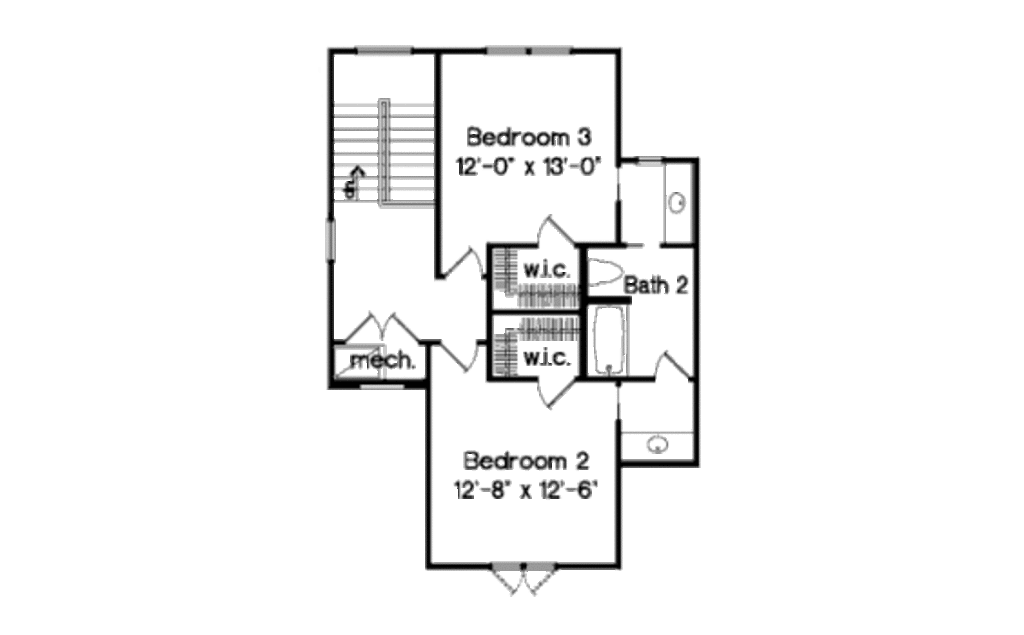door: (486, 559, 560, 594), (344, 310, 416, 343), (531, 371, 578, 410), (436, 247, 486, 282), (436, 337, 480, 376), (530, 210, 579, 244), (647, 349, 690, 380)
large_sink: (582, 250, 626, 290)
small_sink: (617, 428, 695, 462), (667, 164, 690, 243)
stairs: (330, 89, 435, 209)
tub: (583, 300, 632, 375)
window: (532, 43, 576, 60), (354, 45, 410, 57), (326, 216, 339, 263), (487, 43, 527, 57), (630, 148, 665, 164)
